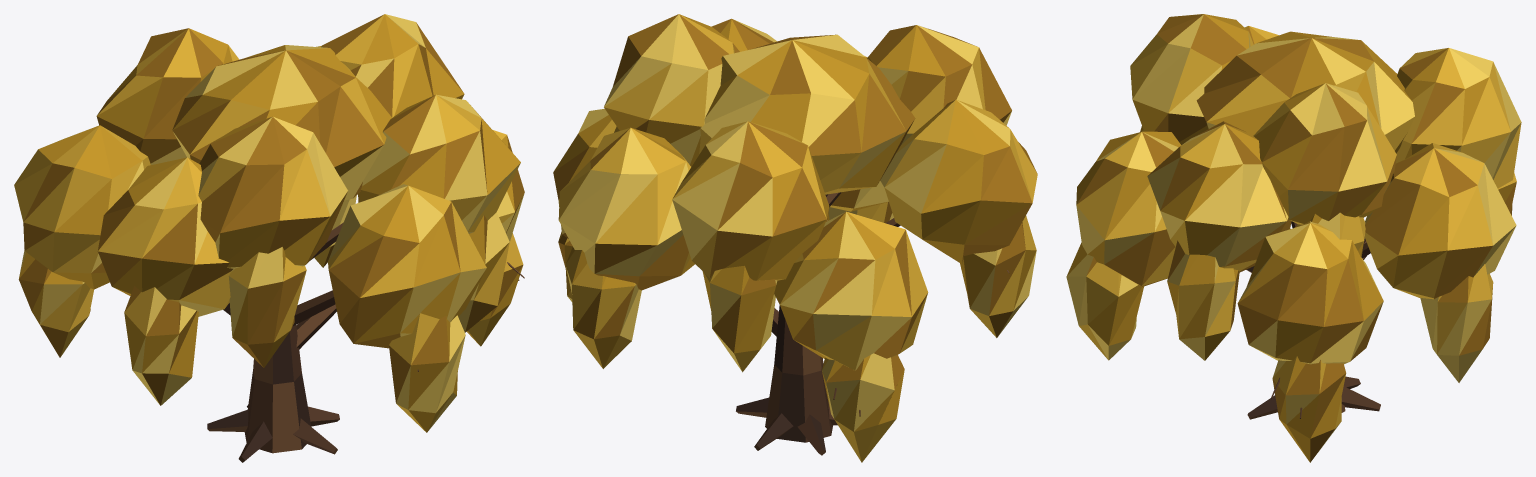
Rendered from tree_willow_gold.obj.
The picture shows the model from 3 angles, left to right: view 1: azimuth 30°, elevation 25°; view 2: azimuth 150°, elevation 25°; view 3: azimuth 270°, elevation 25°; orthographic projection. The views are drawn at different scales.
Parts seen in each view (by area): view 1: tree_willow_gold; view 2: tree_willow_gold; view 3: tree_willow_gold.
Part boxes in pixels (bbox=[...]): tree_willow_gold: bbox=[14, 14, 524, 462]; tree_willow_gold: bbox=[553, 14, 1037, 462]; tree_willow_gold: bbox=[1066, 14, 1521, 462].
Size of the model in its own units: 561 by 470 by 510.
Materials: 1 (1 with a texture image).
